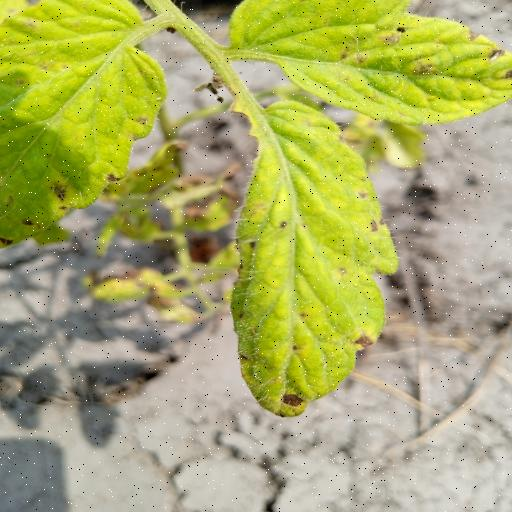Tomato_Brown_Spots: (219, 89, 400, 419), (0, 0, 172, 253), (213, 0, 512, 127)
